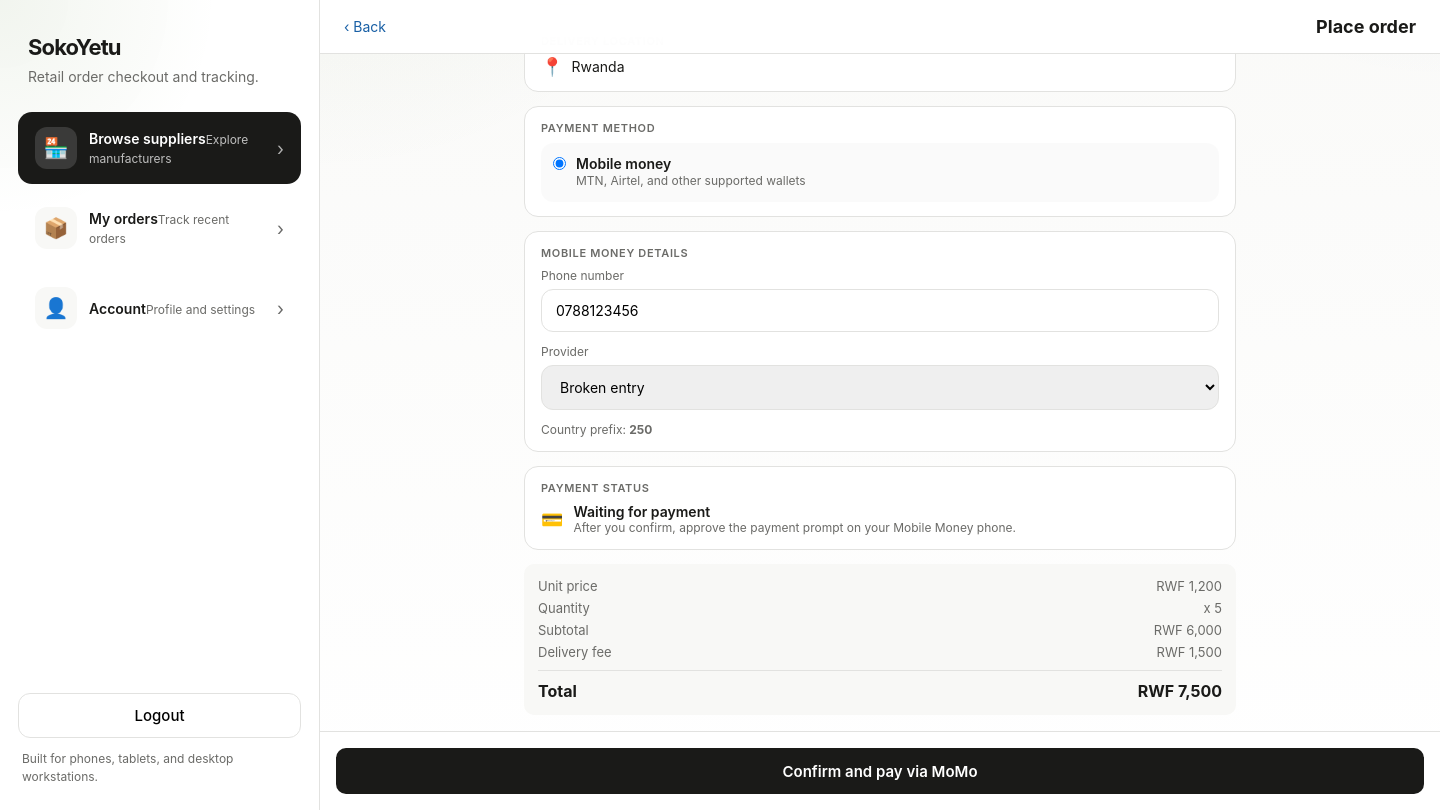
Scenario: placing the order › refuses to continue without a usable provider
(page scrolled)
Click the button "Confirm and pay via MoMo" at (880, 771), box top-left (336, 748), bottom-right (1424, 794)
(page scrolled)
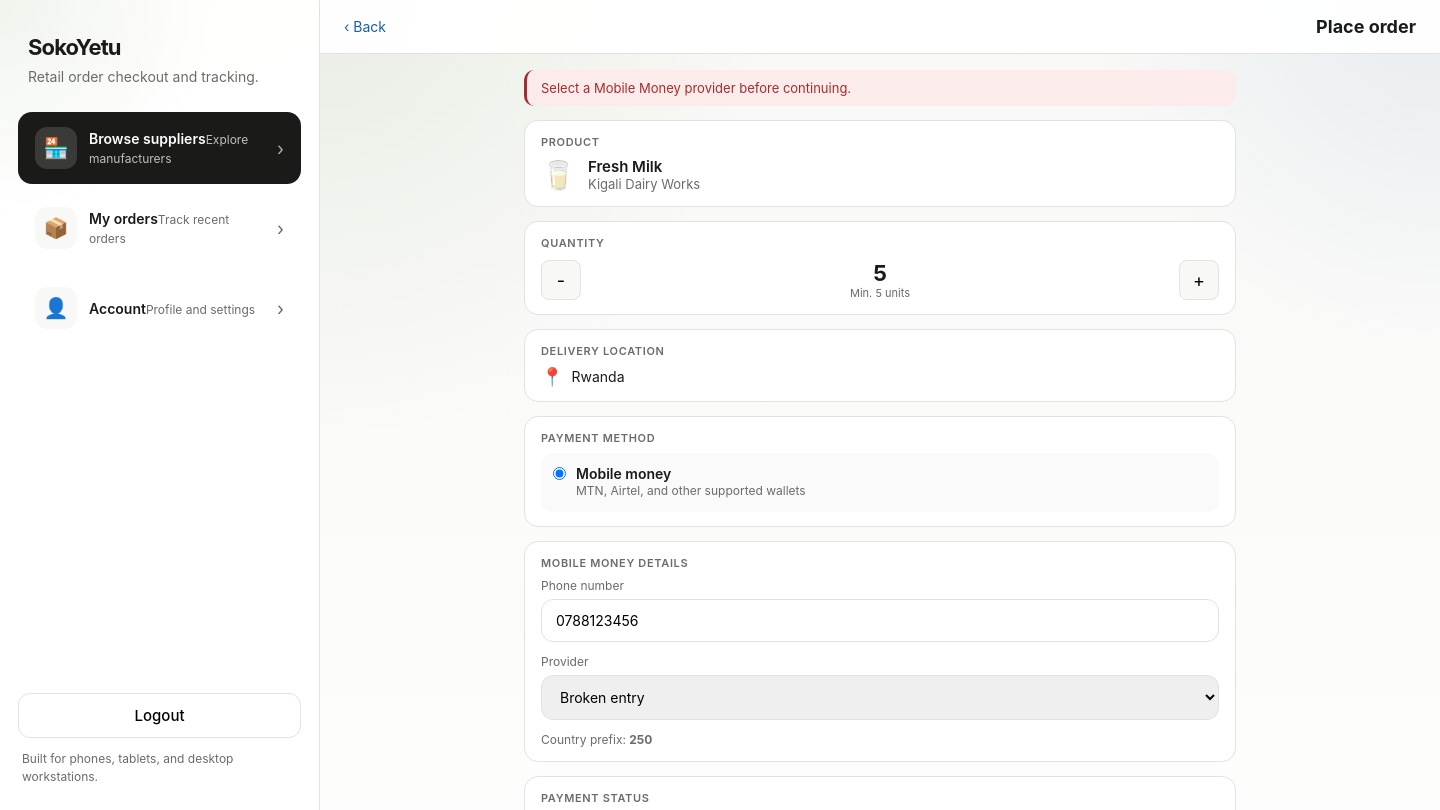
Expected: the text "Select a Mobile Money provider before continuing." is shown, top-left (524, 70), bottom-right (1236, 106)
